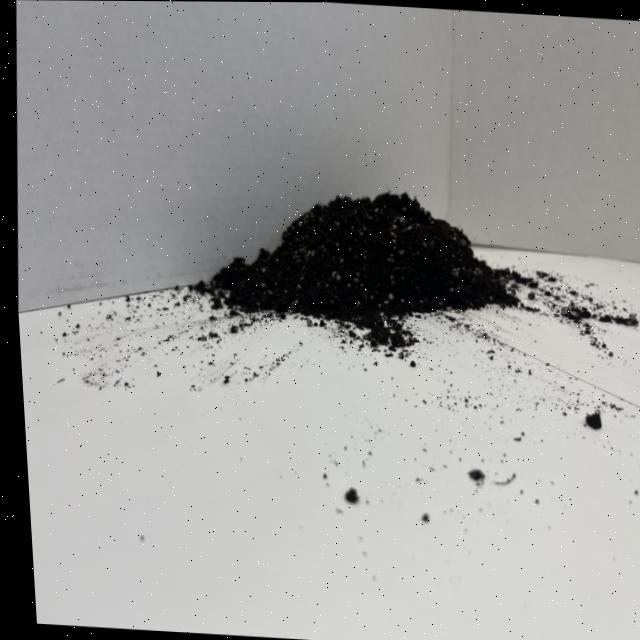soil: (187, 175, 533, 351)
